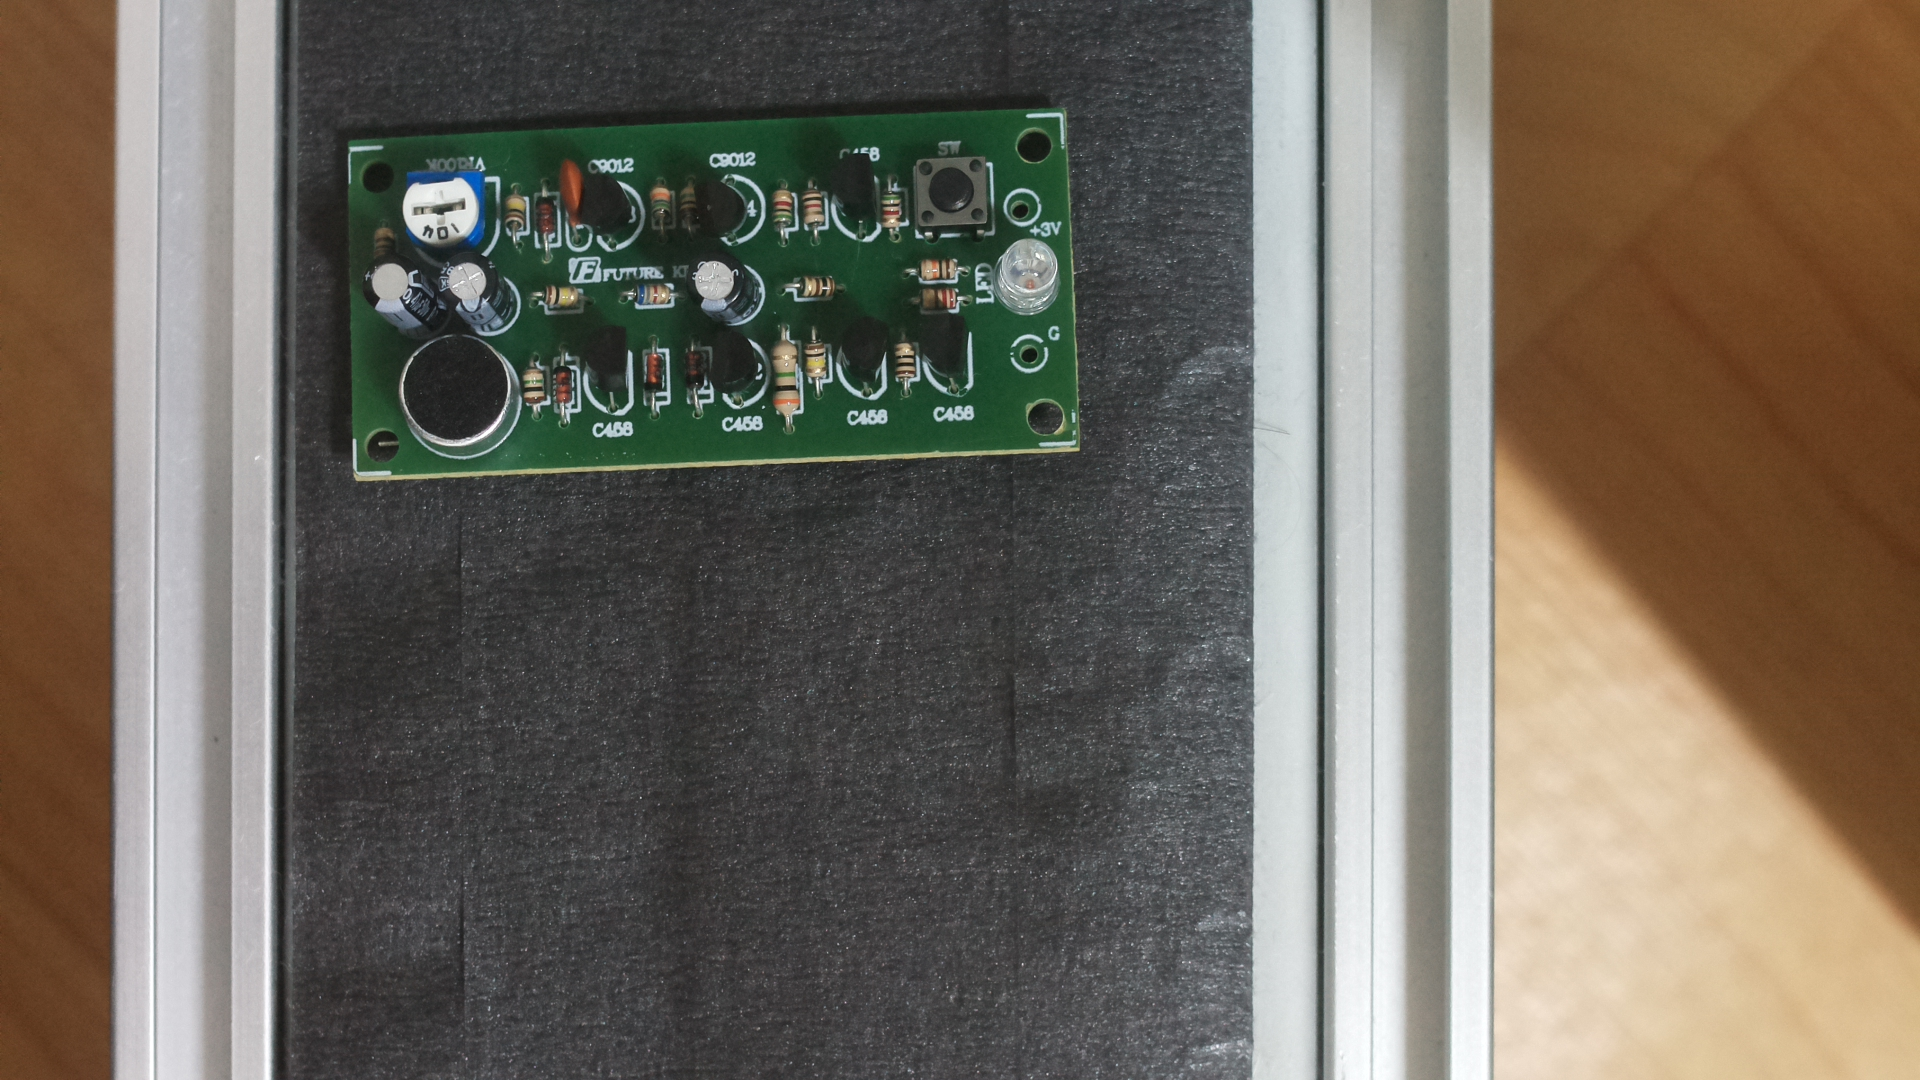A_Normal: (335, 98, 1102, 497)
